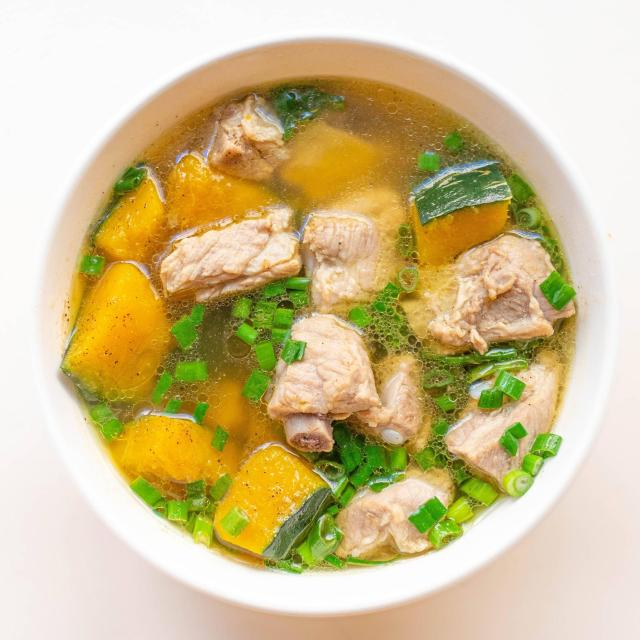canh bi do: (61, 80, 576, 572)
